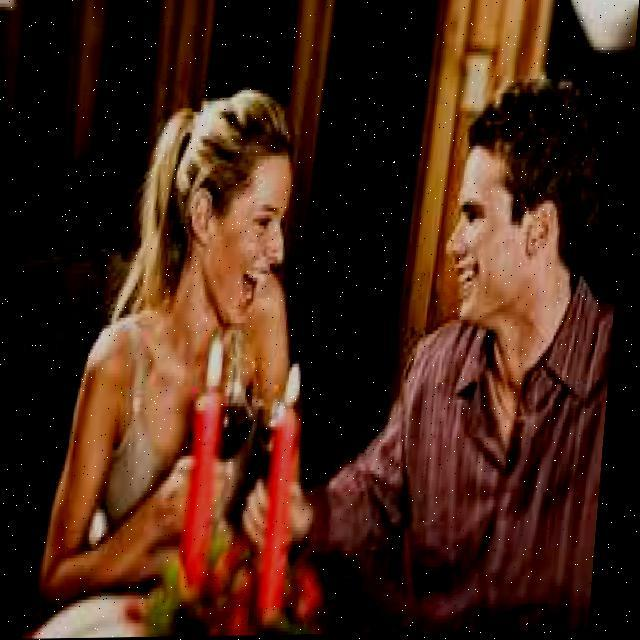Fire: (196, 334, 238, 397), (284, 354, 313, 414)
